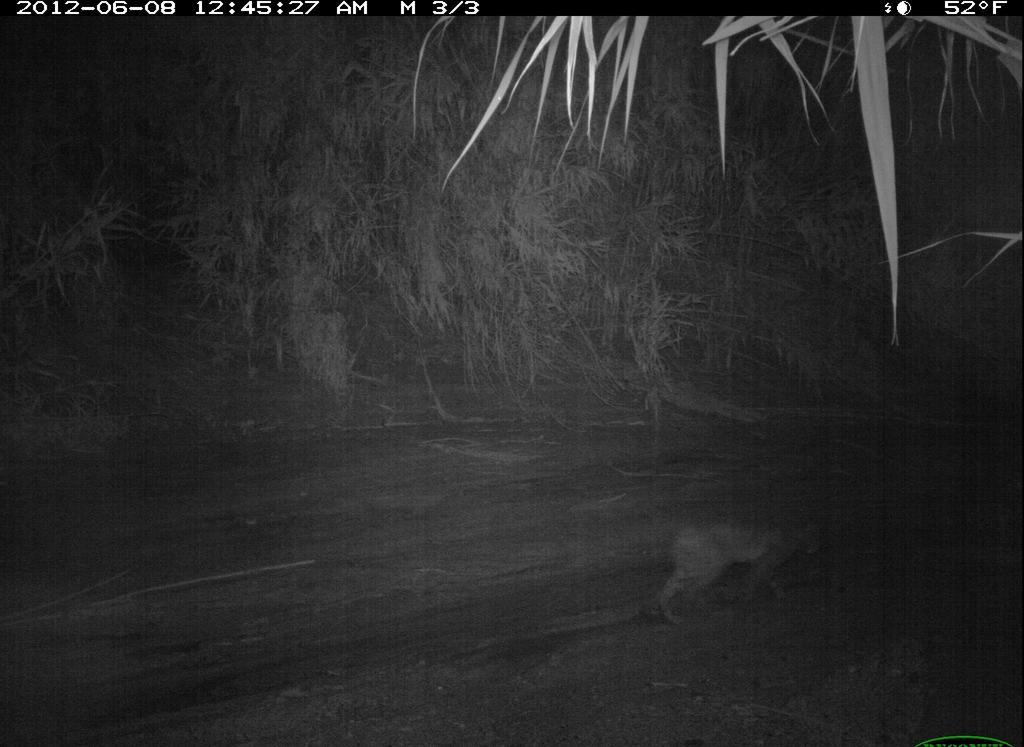bobcat: (633, 498, 845, 634)
